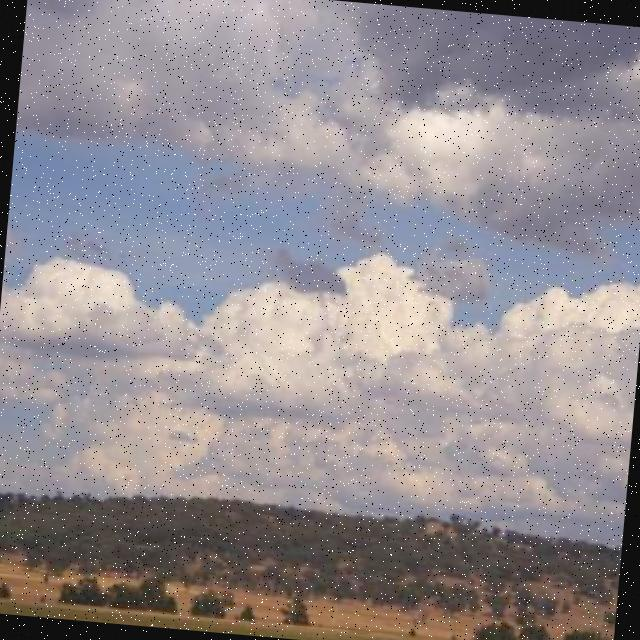Cu: (1, 7, 640, 520)
